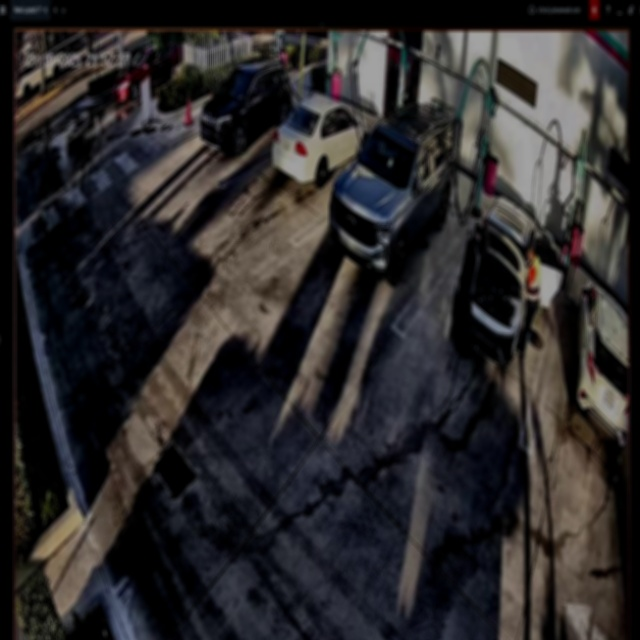Car: (329, 104, 452, 280), (452, 197, 559, 357), (273, 94, 370, 184), (202, 59, 290, 149)
